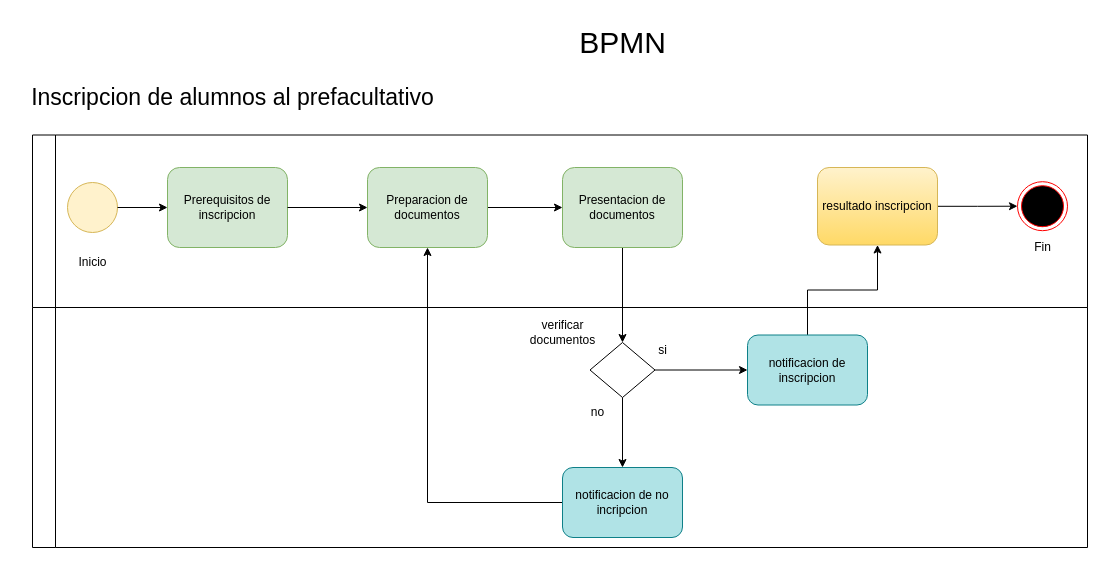
Some shapes in this 1105 by 565 pixel diagram are drawn without their labels. The centre of each missing label's shape, as x and y in pixels:
direccion: point 560,427
estudiante: point 560,221
